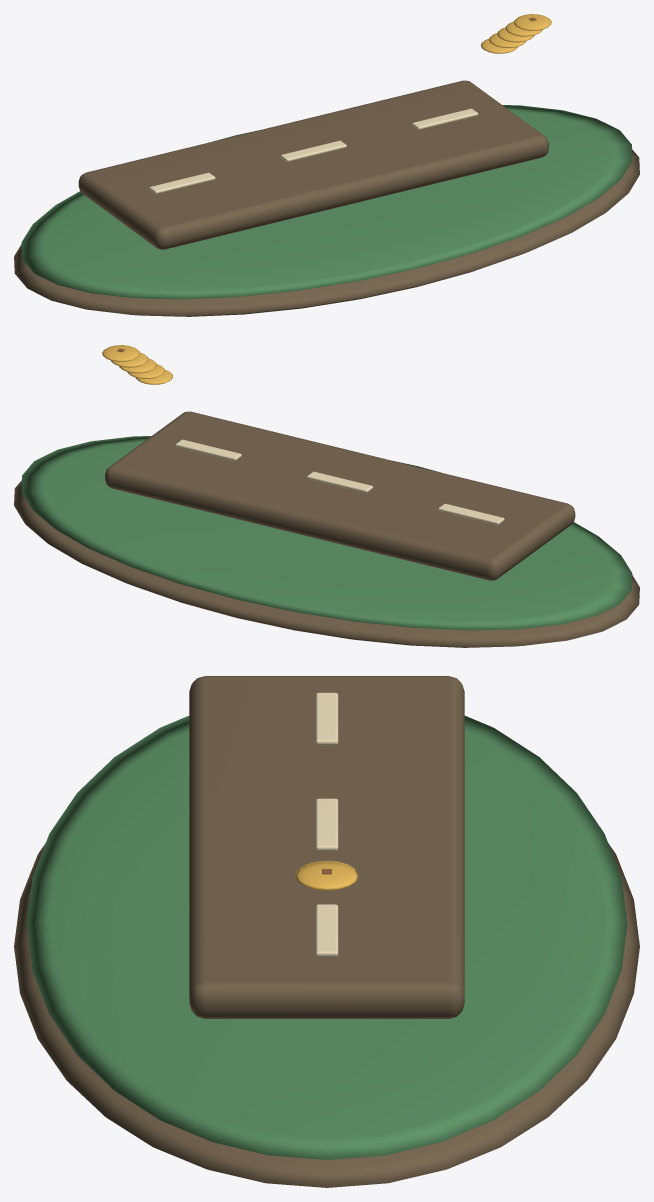
File: distant-coin.glb
3 views of the same model, one above another, from view 1: azimuth 30°, elevation 25°; view 2: azimuth 150°, elevation 25°; view 3: azimuth 270°, elevation 25° (orthographic). The views are drawn at different scales.
Parts seen in each view (by area): view 1: distant-coin_surface_00, distant-coin_surface_01, distant-coin_surface_02, distant-coin_surface_03; view 2: distant-coin_surface_00, distant-coin_surface_01, distant-coin_surface_02, distant-coin_surface_03; view 3: distant-coin_surface_01, distant-coin_surface_00, distant-coin_surface_02, distant-coin_surface_03.
Part boxes in pixels (x1,y1,x2,y2): distant-coin_surface_00: [14, 80, 639, 316]; distant-coin_surface_01: [21, 105, 632, 299]; distant-coin_surface_02: [149, 108, 478, 194]; distant-coin_surface_03: [481, 14, 551, 53]; distant-coin_surface_00: [14, 411, 639, 647]; distant-coin_surface_01: [21, 436, 632, 630]; distant-coin_surface_02: [175, 439, 504, 525]; distant-coin_surface_03: [102, 345, 172, 384]; distant-coin_surface_01: [26, 716, 627, 1159]; distant-coin_surface_00: [14, 676, 639, 1187]; distant-coin_surface_02: [315, 692, 338, 956]; distant-coin_surface_03: [295, 860, 358, 890].
Size of the model in its own units: 4.56 by 1.19 by 2.5.
